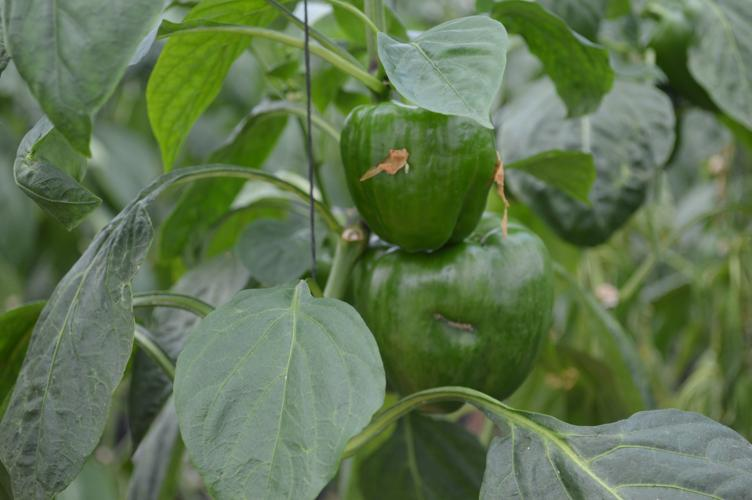BellPepper: (355, 216, 551, 407), (344, 104, 495, 253)
